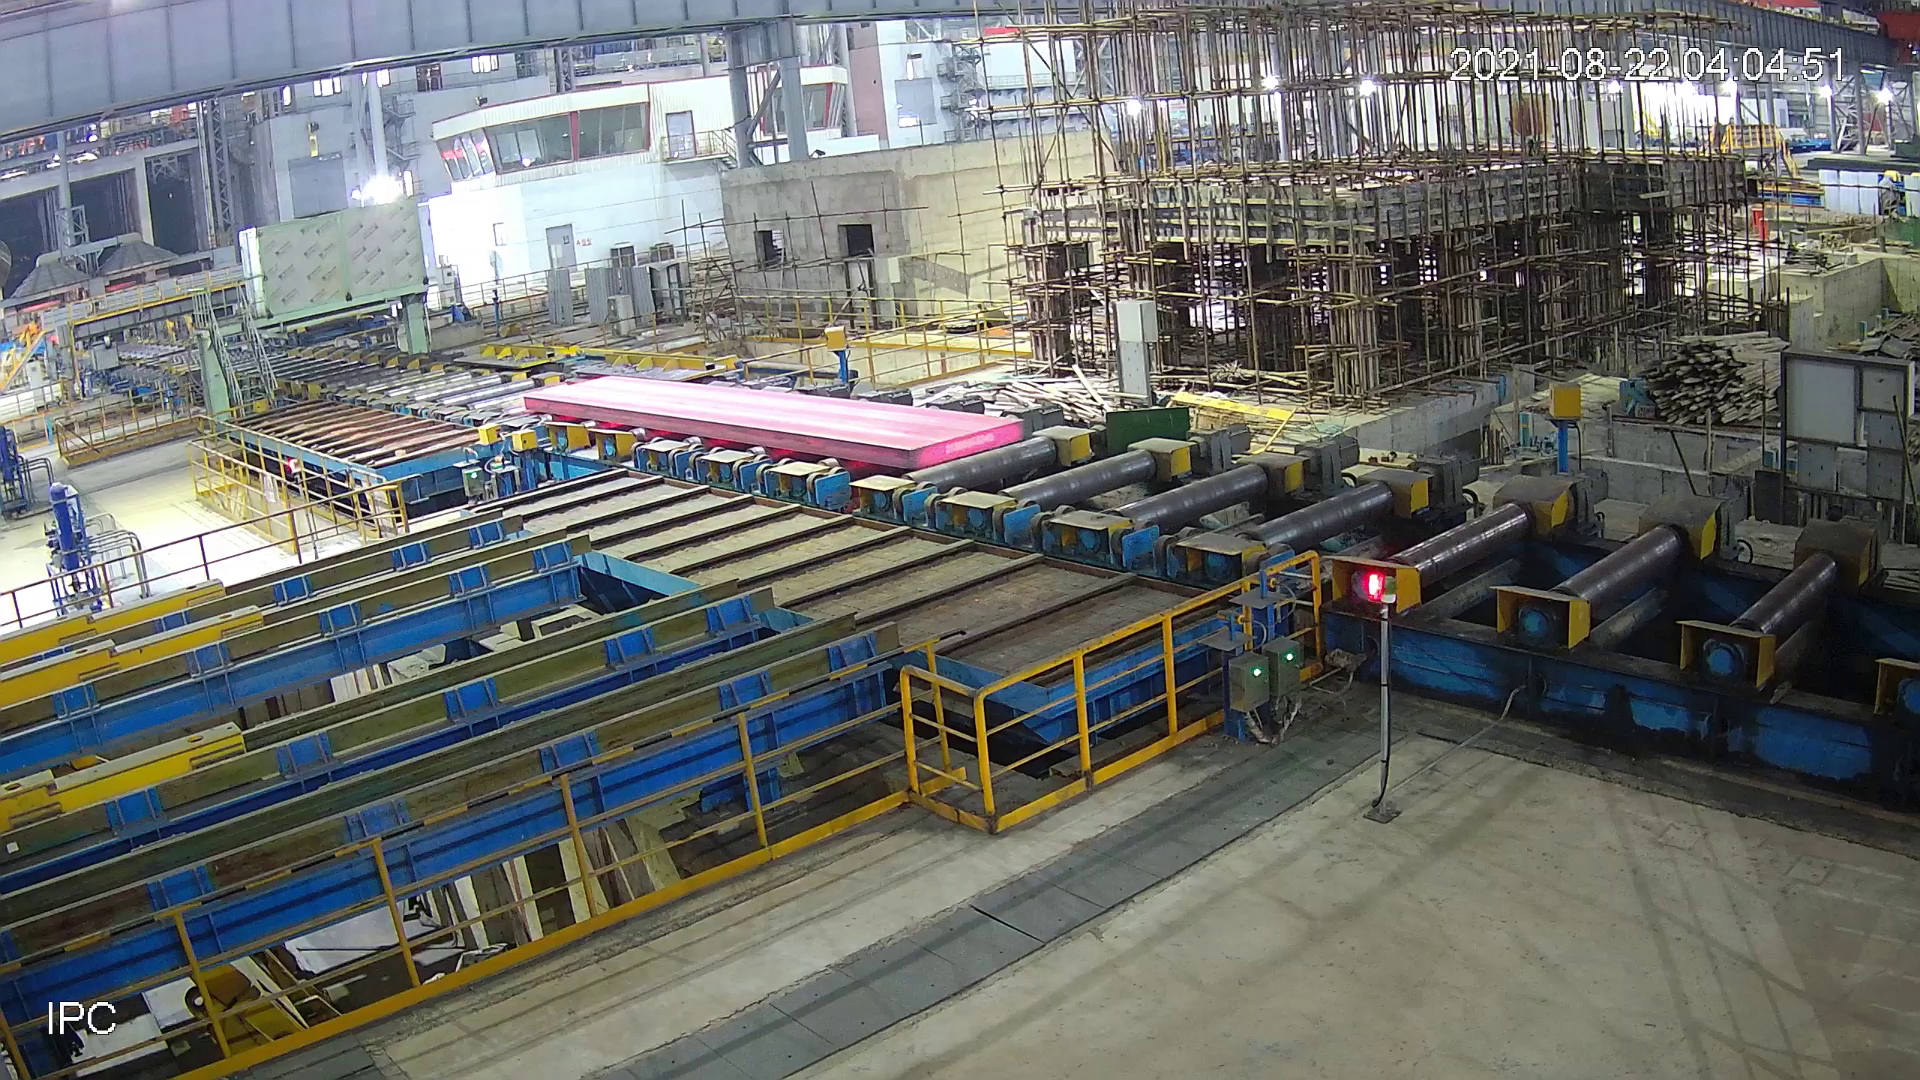slab: (521, 365, 1023, 472)
